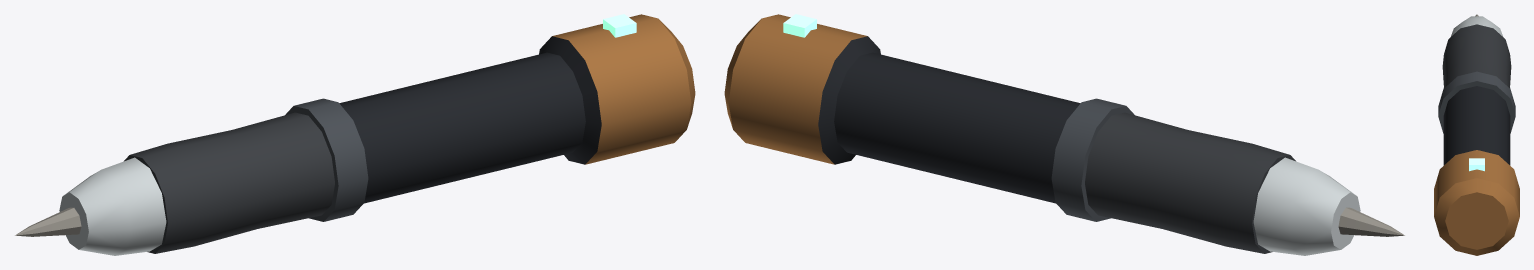
The model's file is ink-machine-pen.glb.
3 renders of one model, left to right at view 1: azimuth 30°, elevation 25°; view 2: azimuth 150°, elevation 25°; view 3: azimuth 270°, elevation 25°, orthographic. The views are drawn at different scales.
Parts seen in each view (by area): view 1: pen; view 2: pen; view 3: pen.
Boxes of the visible parts, <box> form: pen: <box>15,14,695,255</box>; pen: <box>724,14,1404,255</box>; pen: <box>1434,14,1519,255</box>.
Bounding box in the file's own units: 0.154 × 0.0285 × 0.027.
